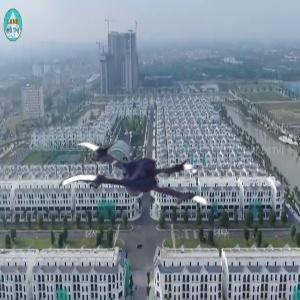drone: (60, 118, 207, 265)
